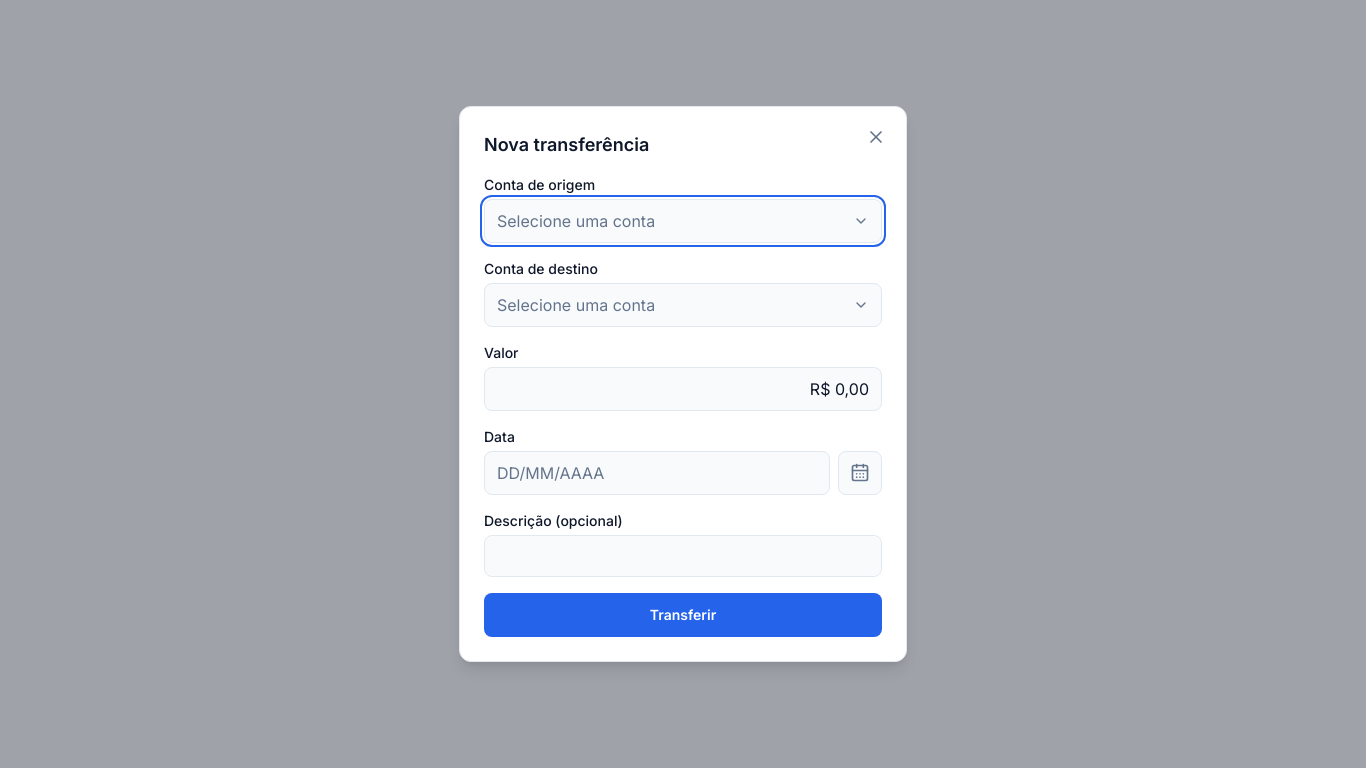
Test case: FormularioTransferencia › exclui a conta de origem das opções de destino
Click the dropdown labelled "Selecione uma conta" below "Conta de origem".
click(576, 221)  # box x1=484 y1=199 x2=882 y2=243
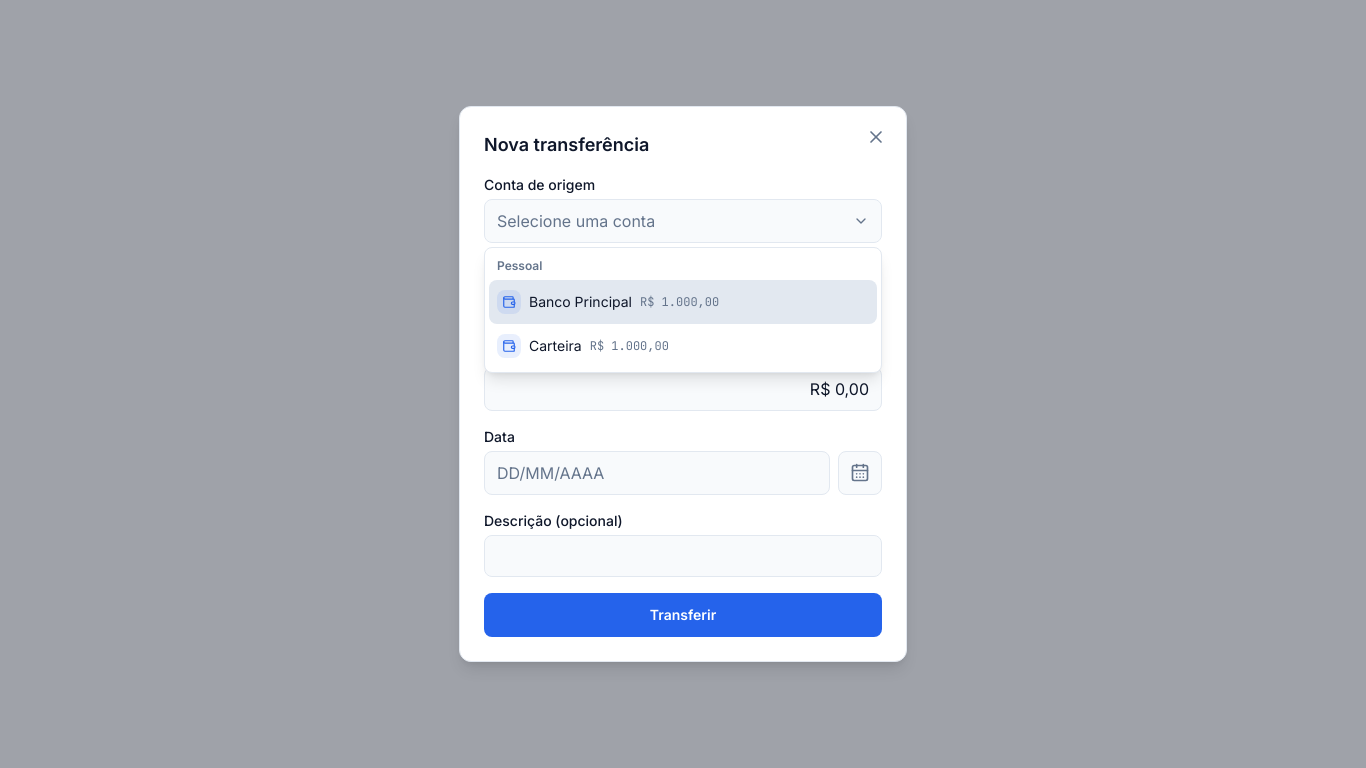
Click the option "Banco Principal R$ 1.000,00".
click(683, 302)  # box x1=489 y1=280 x2=877 y2=324
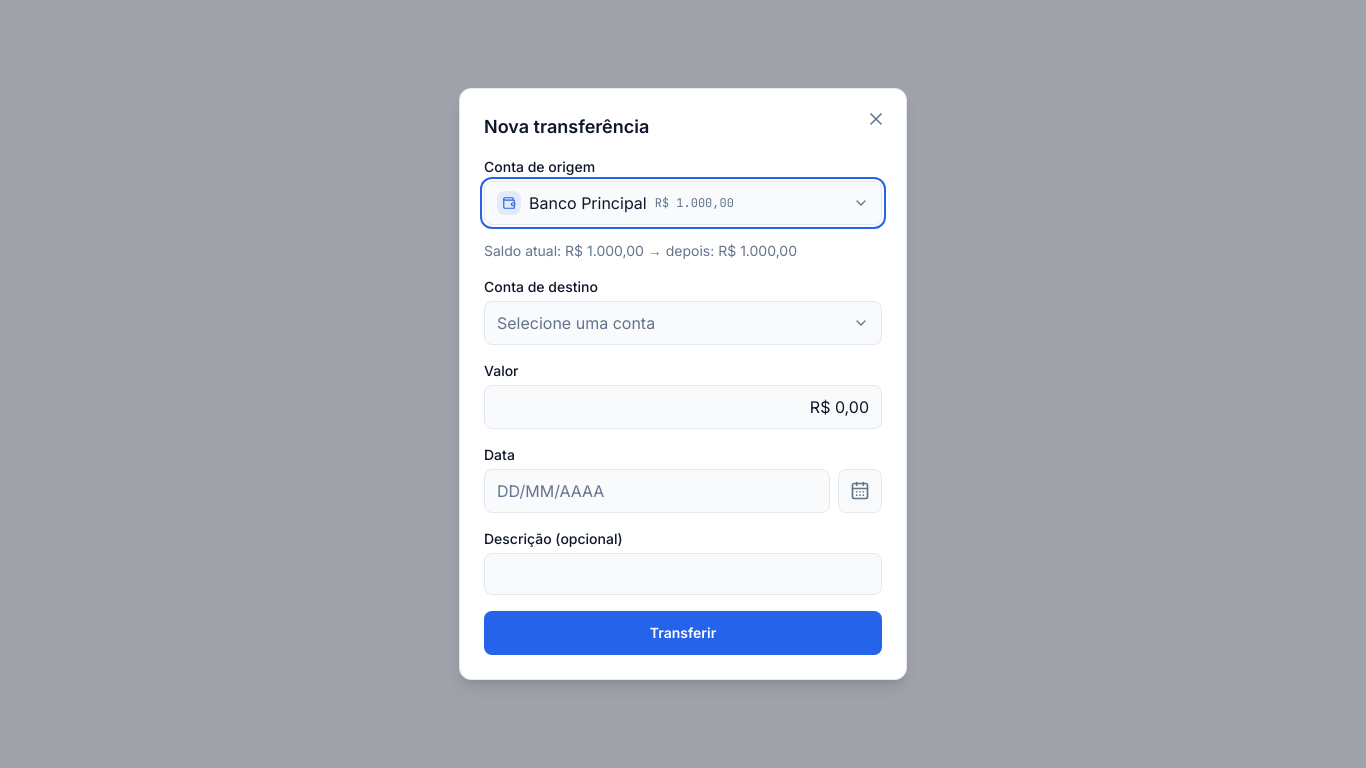
Click the dropdown labelled "Selecione uma conta".
click(576, 323)  # box x1=484 y1=301 x2=882 y2=345
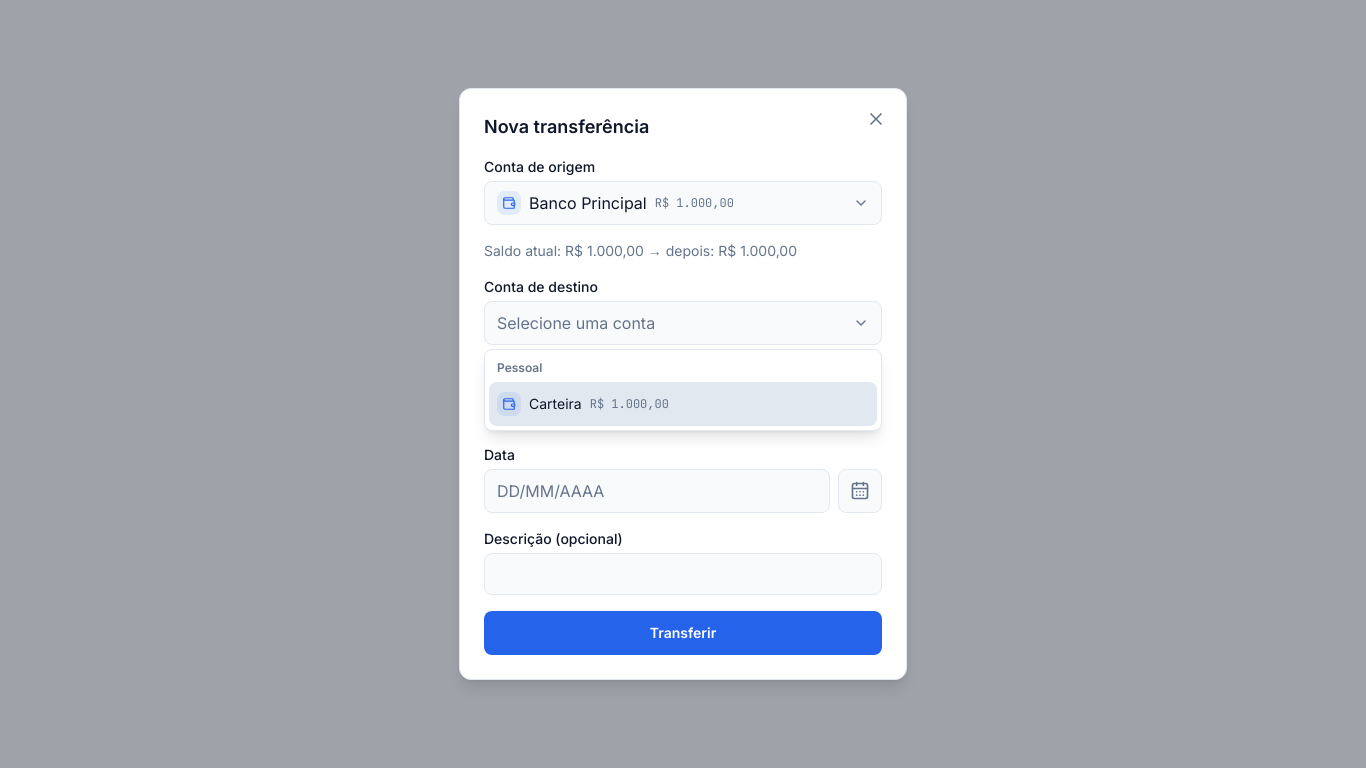
Check: the option "Carteira R$ 1.000,00" is shown, box x1=489 y1=382 x2=877 y2=426
